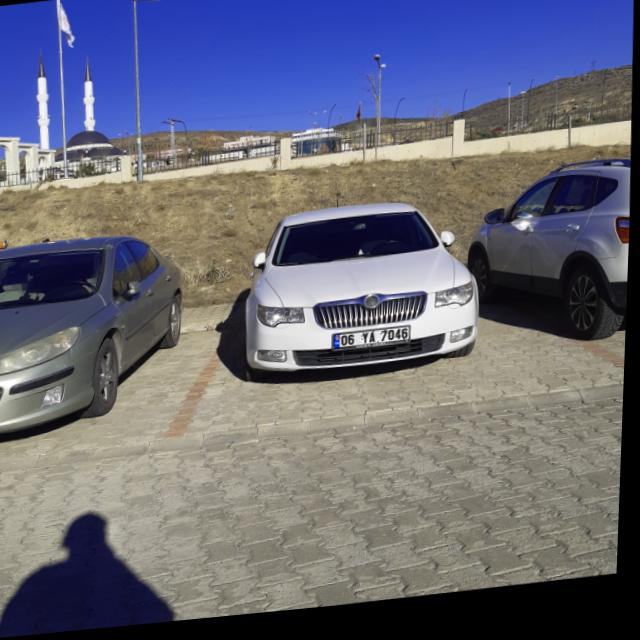license_plate: (336, 334, 412, 356)
